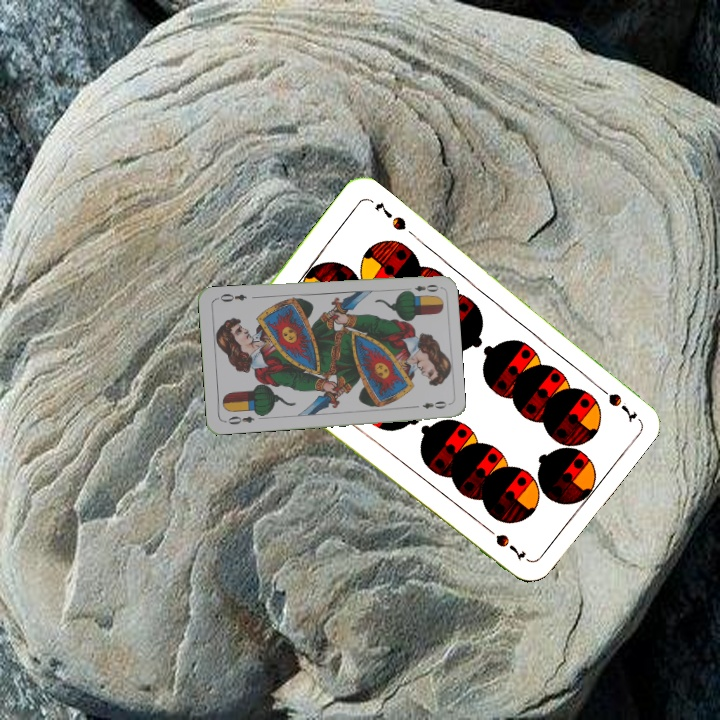EO: (401, 280, 441, 296), (221, 412, 257, 427)
S7: (590, 378, 641, 423)
